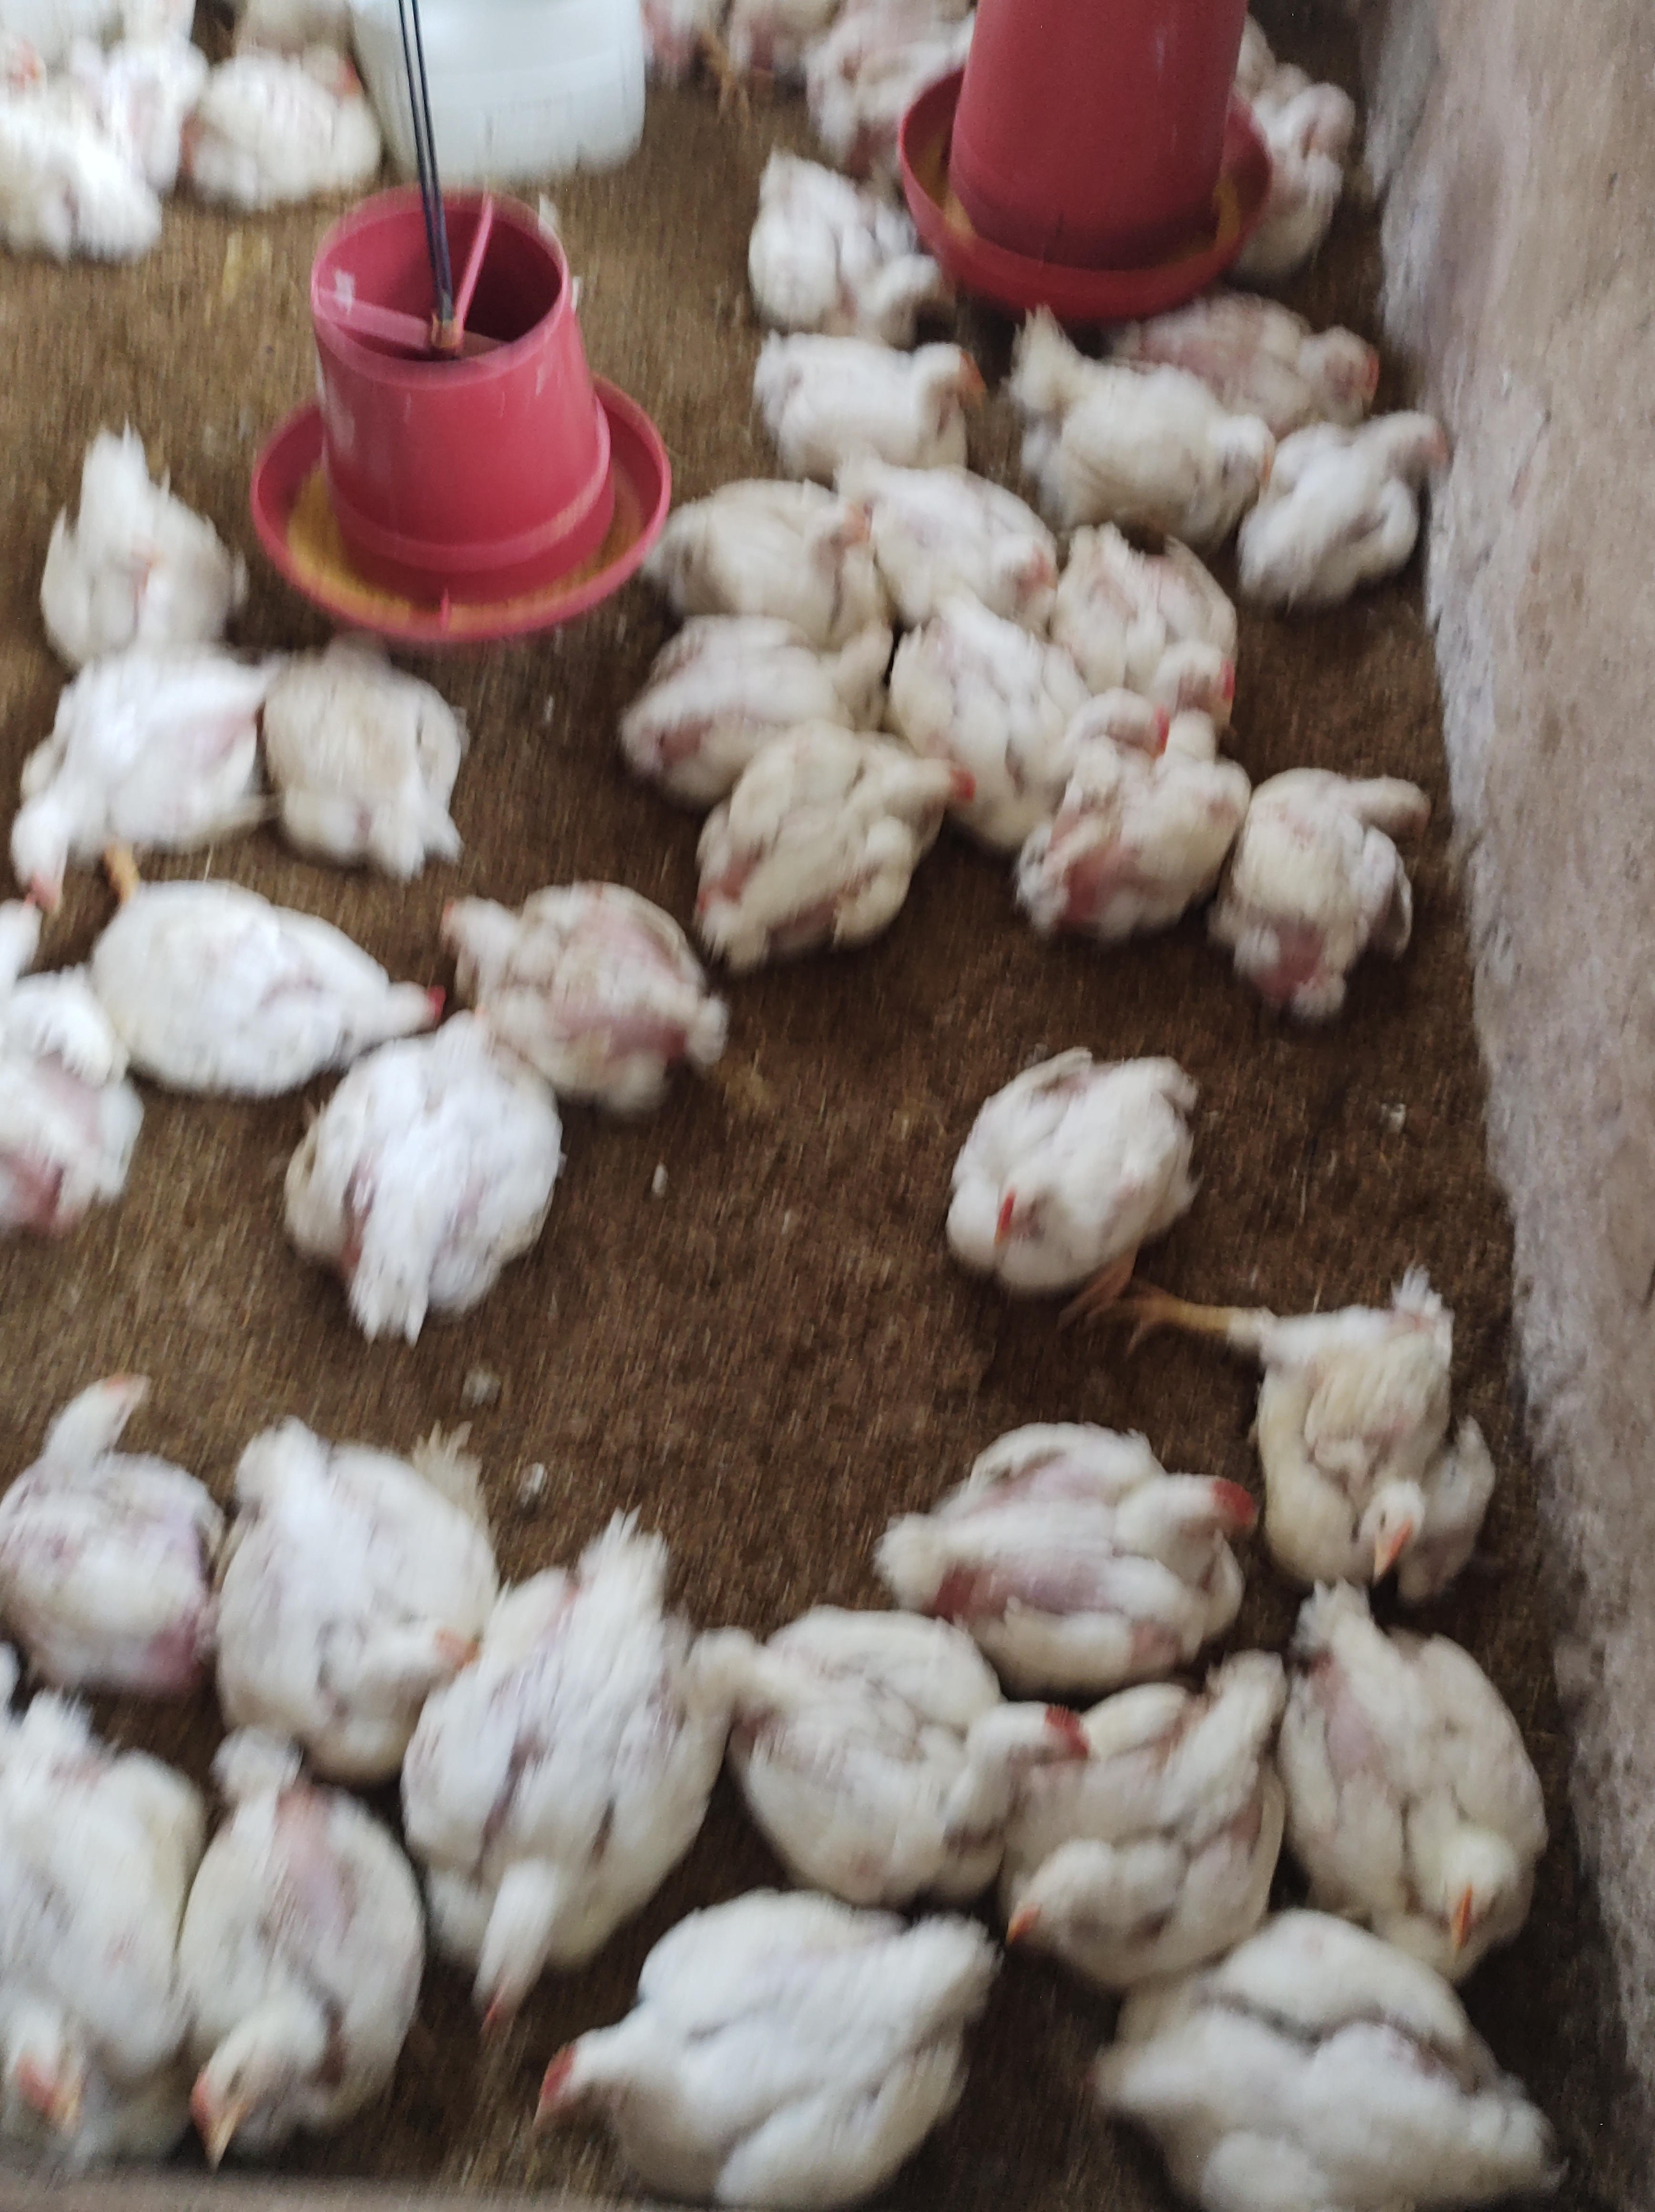Pollos: (415, 1556, 711, 2017), (532, 1911, 977, 2212), (1104, 1941, 1526, 2212), (1205, 1266, 1521, 1602), (188, 1786, 421, 2174), (760, 1610, 1090, 1868), (0, 1727, 188, 2174), (954, 1421, 1264, 1689), (290, 1050, 567, 1346), (3, 1369, 250, 1697), (236, 1436, 478, 1770), (1302, 1621, 1554, 1930), (433, 878, 751, 1106), (94, 854, 426, 1069), (940, 1049, 1212, 1308), (3, 638, 271, 892), (706, 750, 977, 963), (1255, 739, 1452, 1024), (1020, 315, 1273, 529), (40, 412, 261, 650), (0, 901, 150, 1249), (925, 591, 1175, 788), (271, 631, 471, 876), (1022, 744, 1250, 944), (1274, 395, 1471, 609), (0, 30, 179, 263), (1041, 499, 1255, 689), (746, 306, 972, 468), (751, 134, 954, 308), (629, 626, 892, 758), (991, 1807, 1194, 1972), (685, 450, 874, 619), (200, 49, 388, 216), (1250, 66, 1382, 271), (1144, 296, 1391, 403), (984, 520, 1073, 607)
